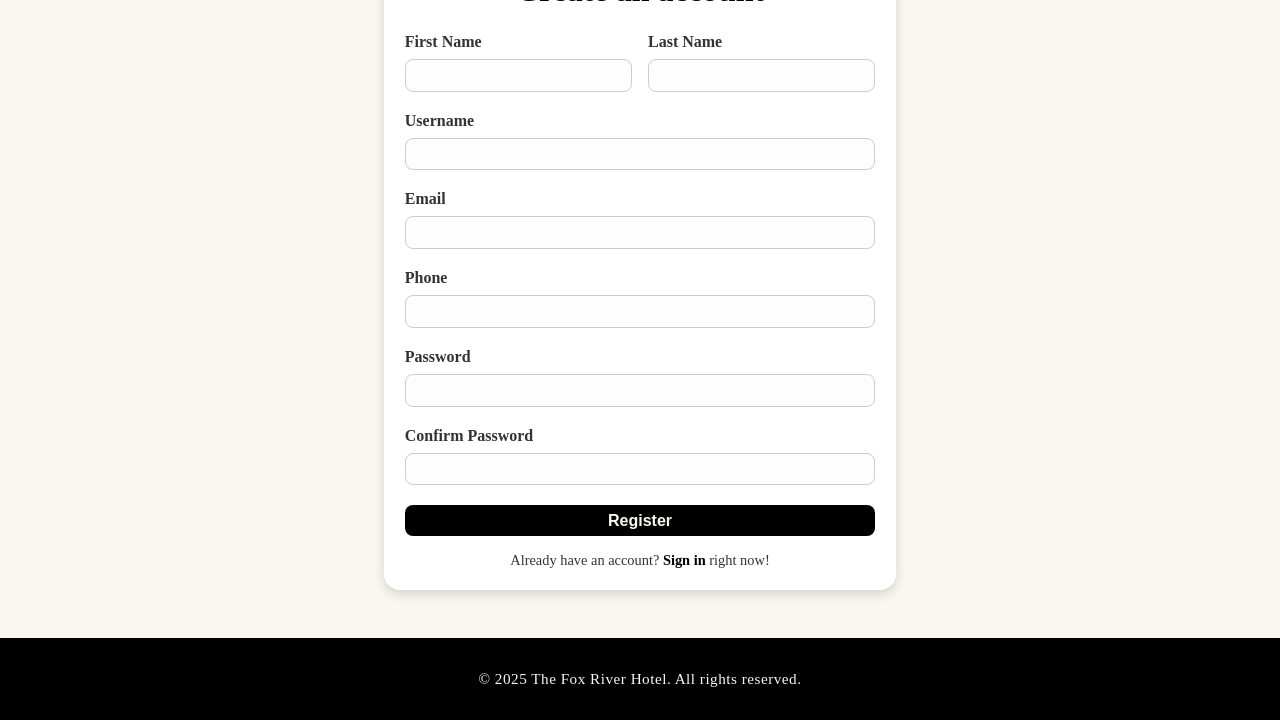
Scenario: Register.vue › displays backend error messages
(page scrolled)
Type "usedname" into the field with id "username" at (640, 154), box [405,138,875,170]
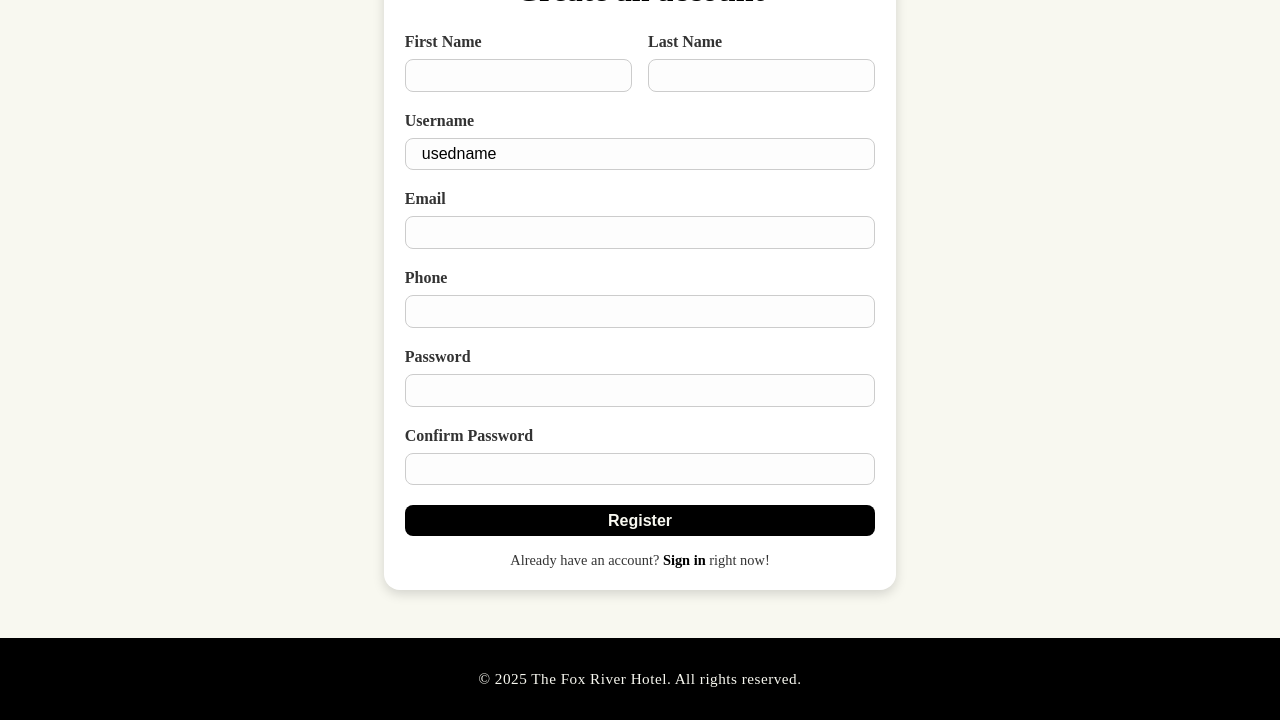
Type "pass123" into the password field labelled "Password" at (640, 390), box [405,374,875,407]
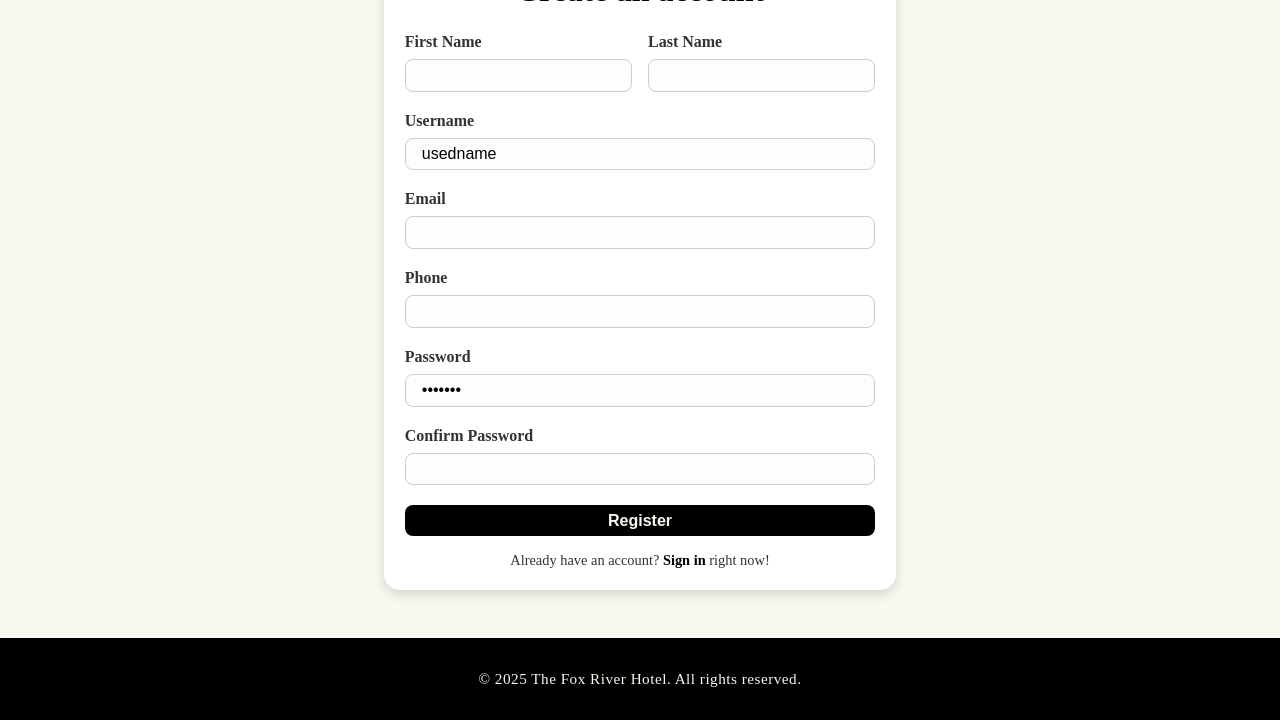
Type "pass123" into the password field with id "confirmPassword" at (640, 469), box [405,453,875,486]
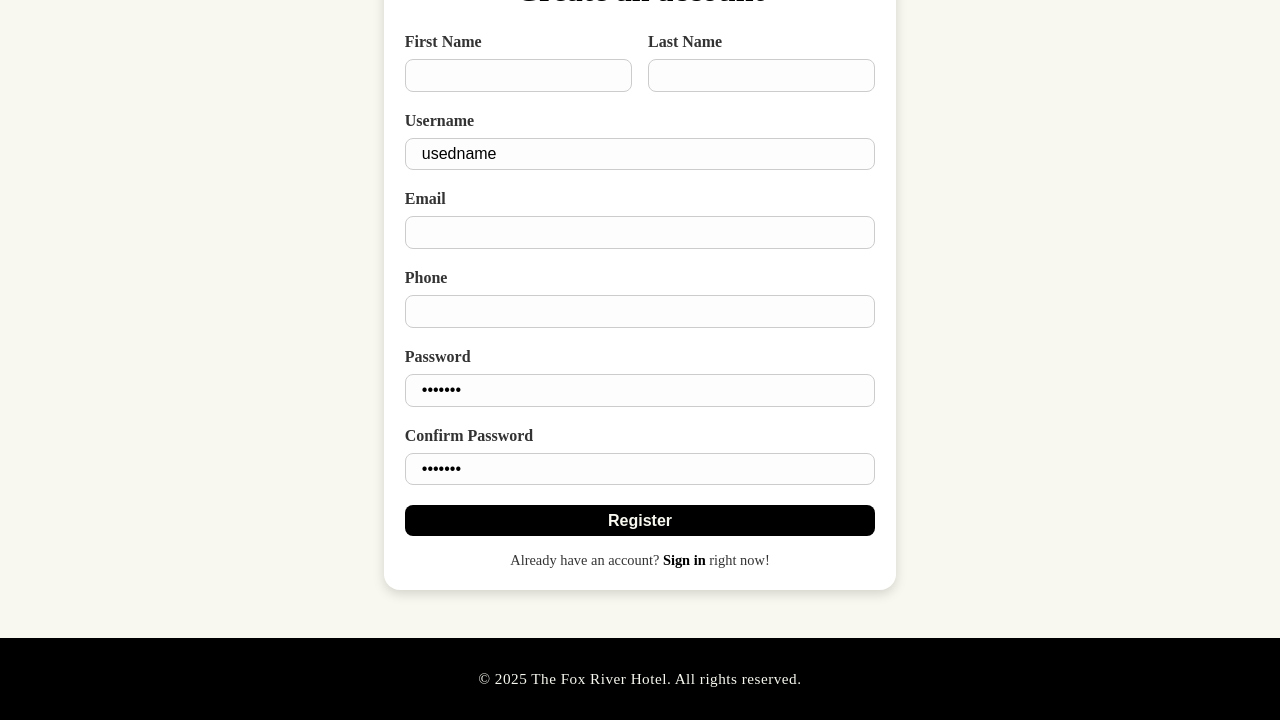
Submit the form, box [405,33,875,536]
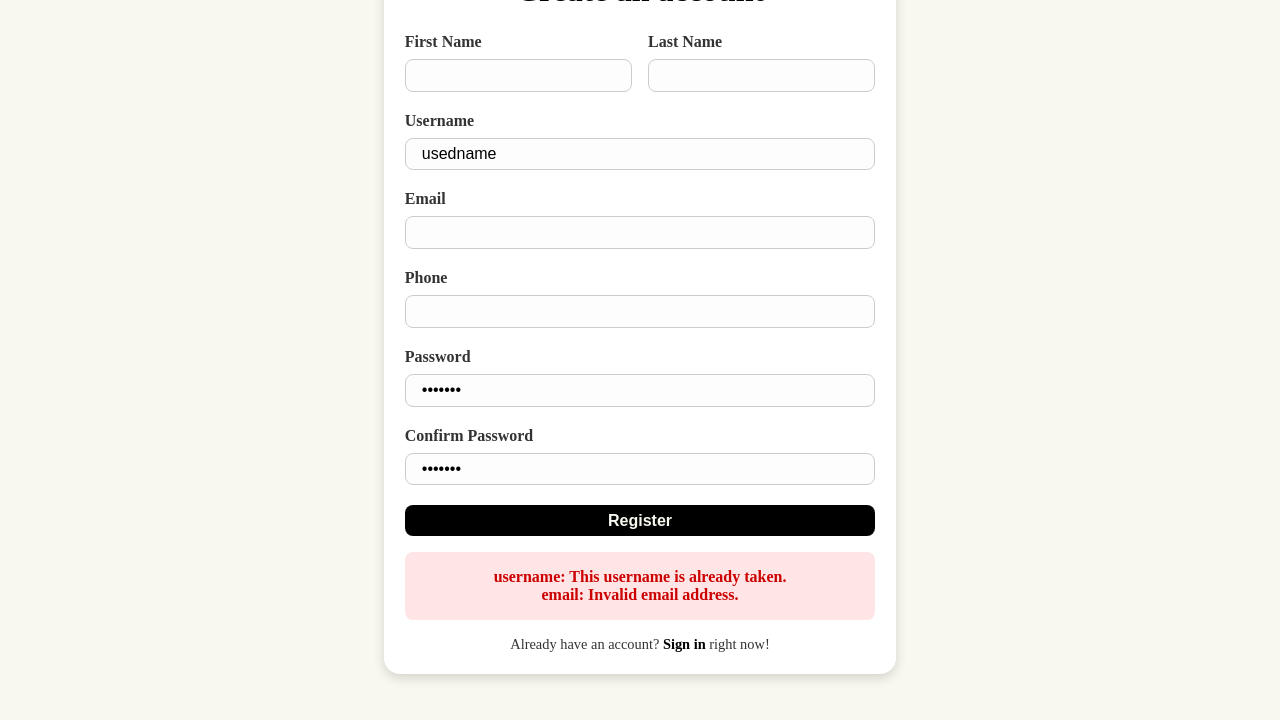
Expected: the text with class "error" shows "username: This username is already taken.", [494,568,786,603]
Expected: the text with class "error" shows "email: Invalid email address.", [494,568,786,603]
